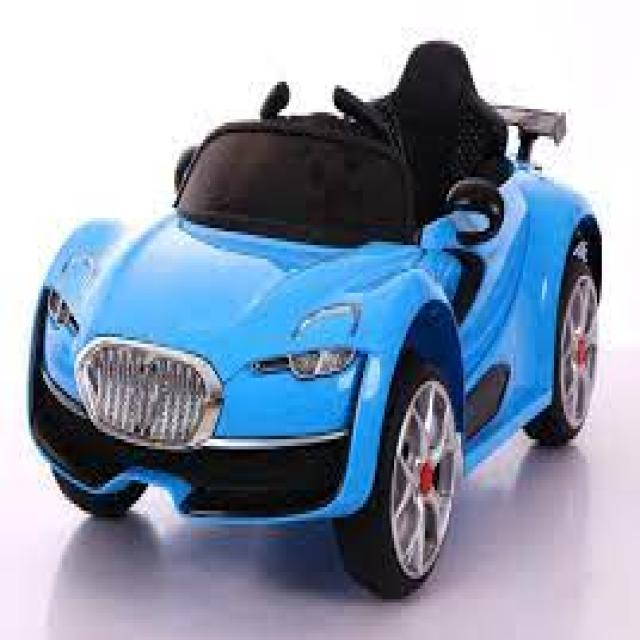Car: (26, 38, 602, 599)
